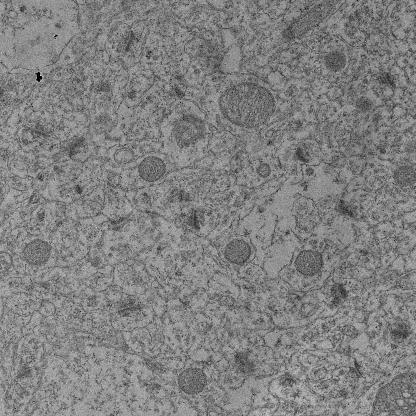mitochondria: (219, 79, 276, 128), (176, 364, 208, 396), (292, 248, 326, 277), (22, 237, 52, 268), (137, 153, 166, 185), (224, 235, 252, 266), (322, 46, 348, 72)
